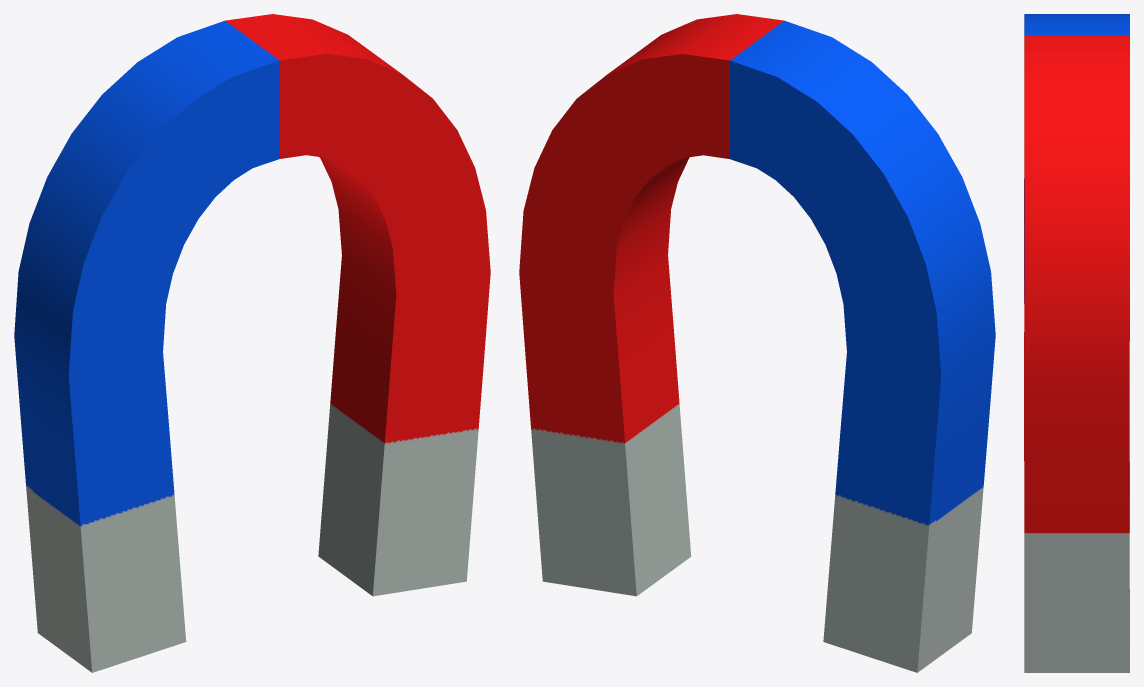
File: magnet.fbx
3 views of the same model, side by side, from view 1: azimuth 30°, elevation 25°; view 2: azimuth 150°, elevation 25°; view 3: azimuth 270°, elevation 25° (orthographic). The views are drawn at different scales.
Visible parts, largest first — view 1: Circle; view 2: Circle; view 3: Circle.
Part boxes in pixels (x1,y1,x2,y2): Circle: [14, 14, 490, 672]; Circle: [519, 14, 995, 672]; Circle: [1024, 14, 1129, 672].
Bounding box in the file's own units: 224 × 287 × 50.2.
1 material, 1 textured.
